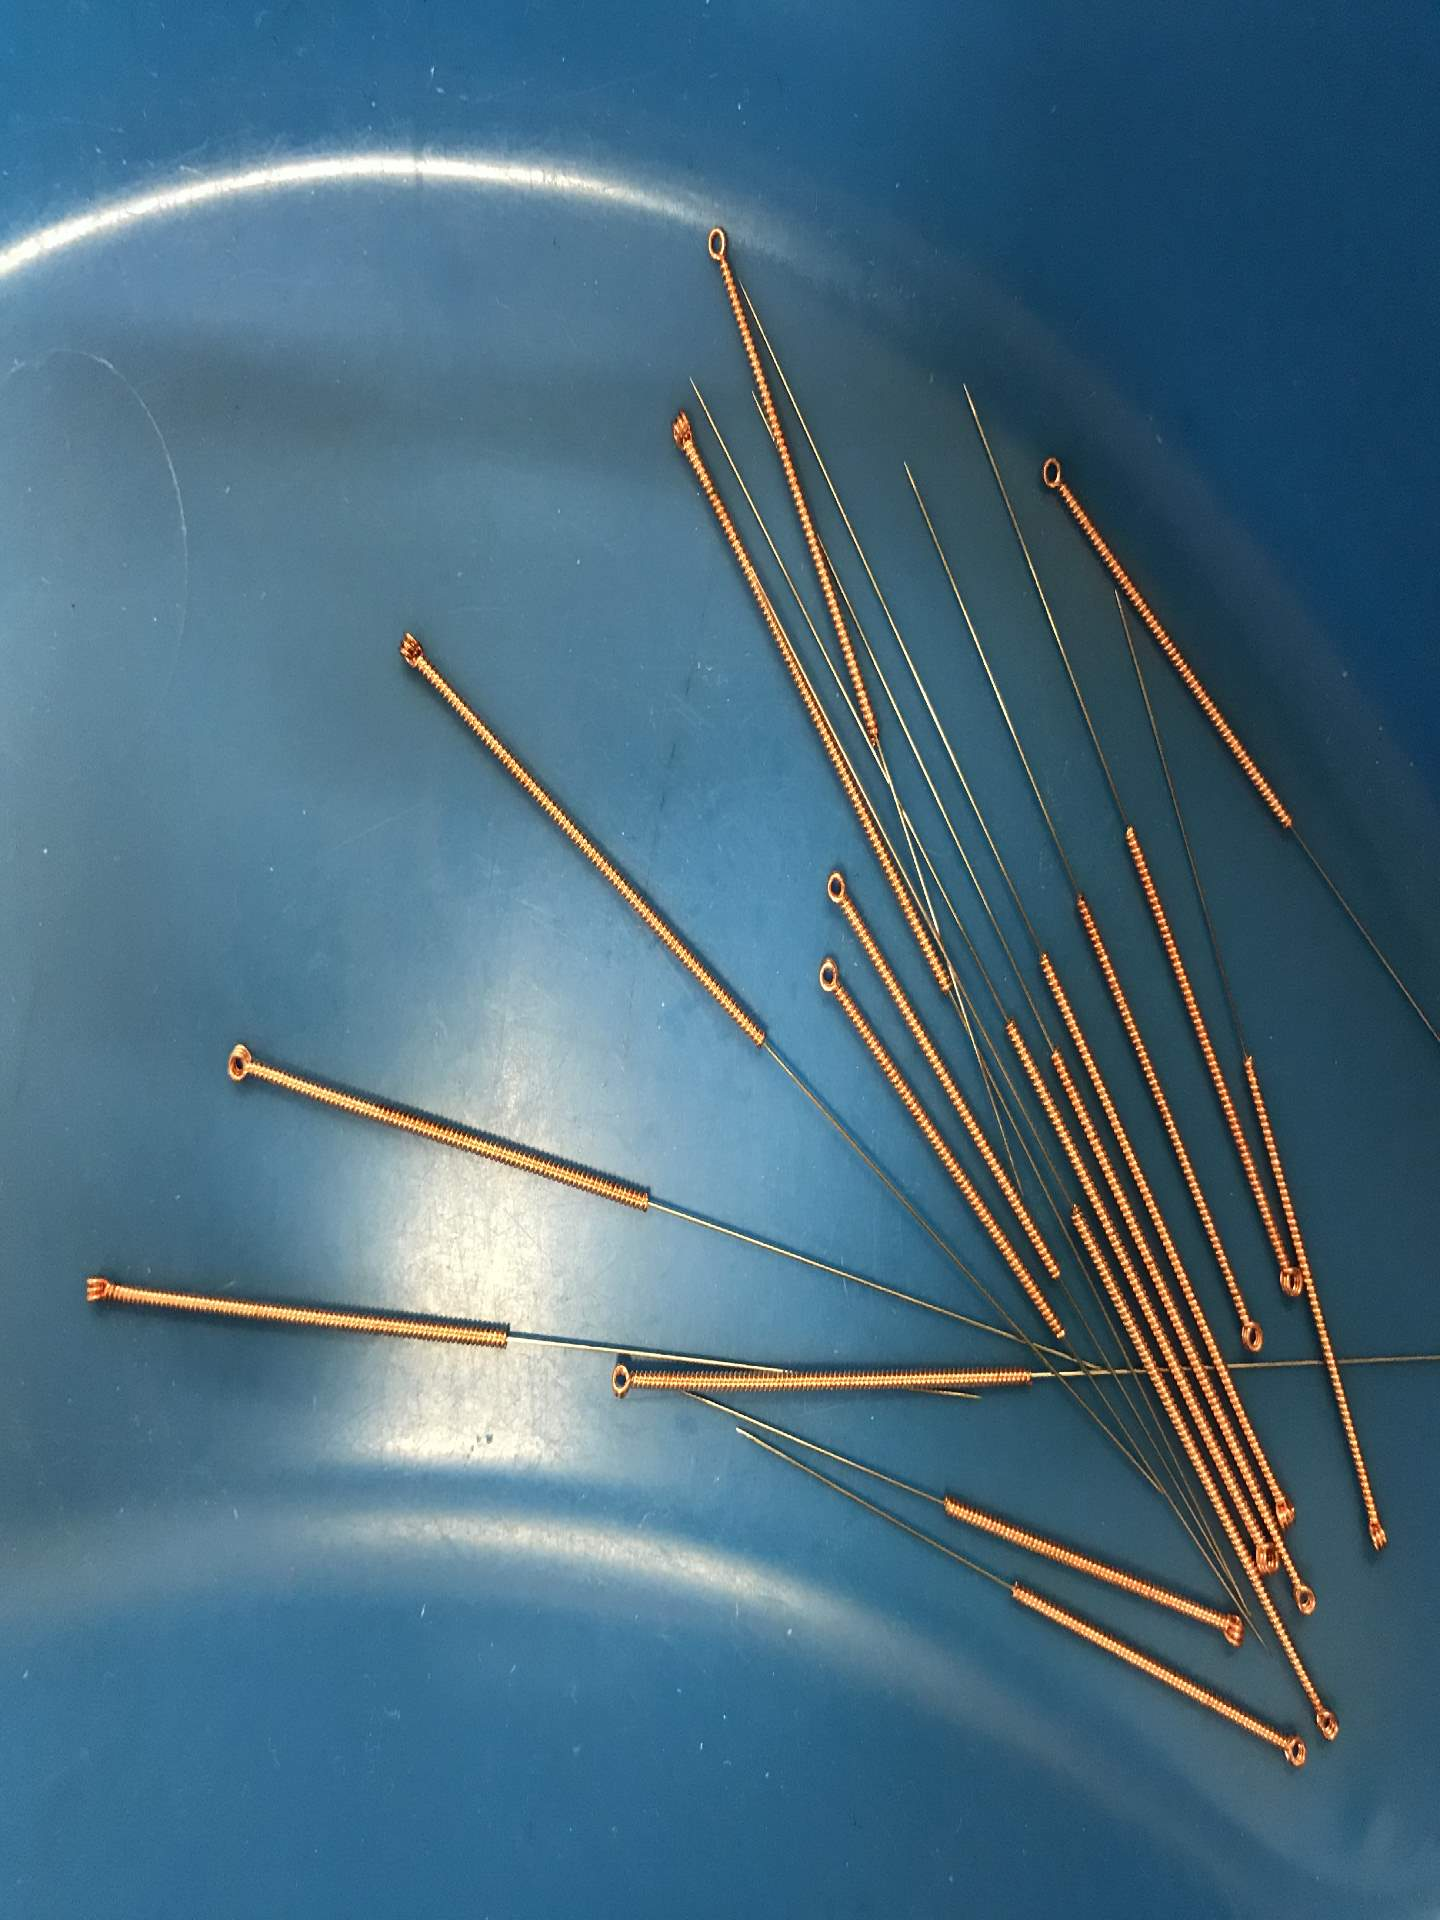needle: (209, 1033, 272, 1101), (70, 1259, 127, 1321), (1027, 440, 1078, 506), (386, 620, 437, 682), (656, 398, 703, 464), (694, 216, 743, 280), (1230, 1299, 1277, 1364), (806, 946, 852, 1005), (814, 860, 858, 921), (1203, 1606, 1255, 1655), (601, 1355, 643, 1411), (1269, 1253, 1308, 1311), (1286, 1569, 1325, 1624), (1271, 1728, 1314, 1776), (1355, 1509, 1393, 1565), (1305, 1698, 1346, 1749), (1269, 1479, 1302, 1531), (1251, 1534, 1283, 1581)
